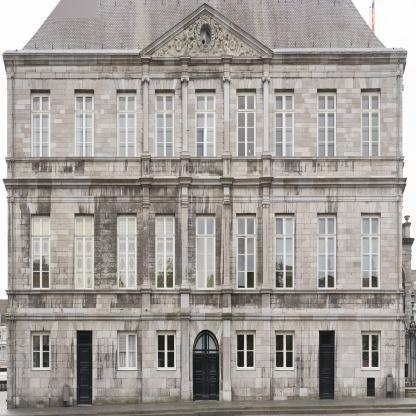Building Outline: (2, 0, 407, 409)
Cornice: (140, 2, 273, 58)
Deco: (151, 13, 261, 56)
Door: (193, 354, 219, 401), (77, 330, 93, 405), (319, 331, 335, 400)
Facade: (8, 54, 403, 409)
Floor: (8, 177, 403, 312), (8, 53, 403, 177)
Floor Slab: (8, 54, 403, 62), (8, 304, 403, 312), (8, 169, 403, 177)
Ground Floor: (8, 312, 403, 409)
Pillar: (180, 312, 191, 401), (222, 313, 232, 401), (180, 201, 189, 289), (222, 201, 231, 289), (141, 70, 150, 155), (180, 70, 189, 155), (222, 70, 231, 155), (262, 201, 270, 289), (142, 201, 150, 289), (262, 69, 270, 155)
Roof: (22, 0, 387, 49)
Top Floor: (140, 2, 273, 58)
Window: (195, 214, 216, 289), (317, 213, 337, 290), (361, 213, 381, 289), (236, 213, 256, 289), (117, 213, 137, 289), (74, 214, 94, 289), (275, 213, 294, 289), (31, 214, 50, 290), (195, 89, 216, 156), (361, 89, 381, 157), (155, 89, 175, 157), (74, 89, 94, 157), (155, 214, 175, 281), (237, 89, 256, 157), (275, 89, 294, 157), (317, 89, 336, 157), (31, 89, 50, 157), (117, 89, 136, 157), (157, 330, 177, 371), (236, 331, 256, 371), (275, 331, 295, 371), (31, 331, 51, 371), (117, 331, 137, 371), (361, 331, 381, 370), (193, 329, 219, 353), (367, 378, 375, 397)
